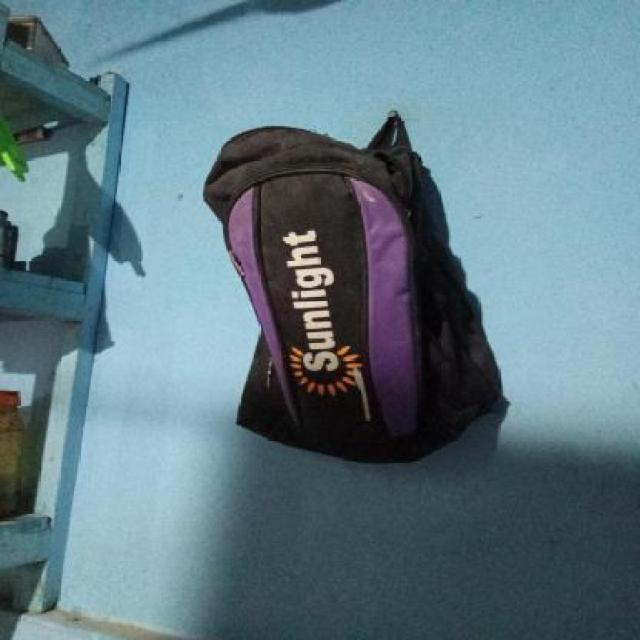backpack: (200, 108, 508, 469)
